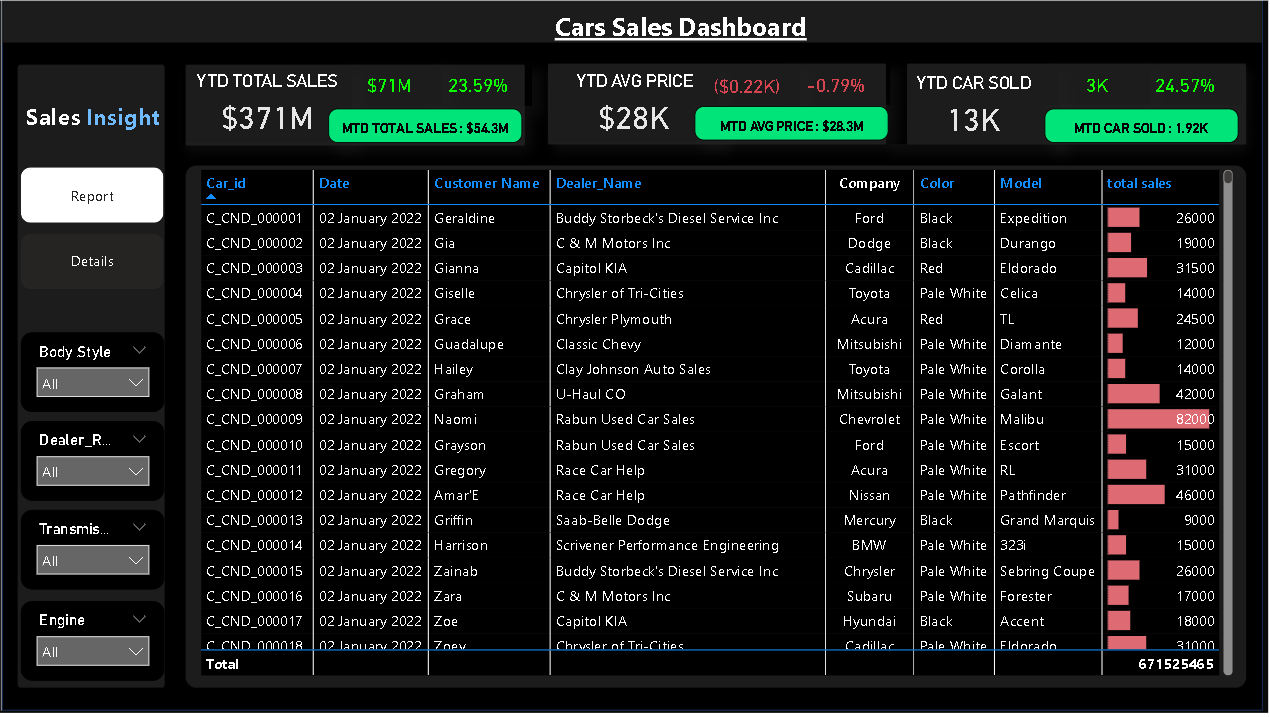

The dashboard page shown, as its layout file describes it:
{"tool":"powerbi","page":{"name":"Details","canvas":[1280,720],"ordinal":1},"visuals":[{"type":"card","title":"YTD TOTAL SALES","fields":{"Values":["car_data.YTD TOTAL SALES"]},"box":[209.5,84.5,161.9,69],"z":0},{"type":"card","title":"SALES  DIFFRENCE","fields":{"Values":["car_data.Sales Diffrence"]},"box":[357.1,81,101.2,38.1],"z":1000},{"type":"card","title":"SALES  DIFFRENCE","fields":{"Values":["car_data.YOY SALES GROWTH"]},"box":[440.5,81,102.4,38.1],"z":2000},{"type":"card","title":"YTD TOTAL SALES","fields":{"Values":["car_data.MTD KPI"]},"box":[348.2,121.3,184.9,32.4],"z":3000},{"type":"card","title":"YTD AVG PRICE","fields":{"Values":["car_data.YTD AVG PRICE"]},"box":[559.5,84.5,161.9,69],"z":4000},{"type":"card","title":"SALES  DIFFRENCE","fields":{"Values":["car_data.AVG PRICE DIFF"]},"box":[697.6,81.7,100.9,37.2],"z":5000},{"type":"card","title":"SALES  DIFFRENCE","fields":{"Values":["car_data.YOY AVG PRICE GROWTH"]},"box":[780.5,80.5,102.1,37.2],"z":6000},{"type":"card","title":"YTD TOTAL SALES","fields":{"Values":["car_data.MTD AVG KPI"]},"box":[697.6,118.9,184.9,32.4],"z":7000},{"type":"card","title":"YTD CAR SOLD","fields":{"Values":["car_data.YTD CAR SOLD"]},"box":[882.6,86.5,162.1,68.4],"z":8000},{"type":"card","title":"SALES  DIFFRENCE","fields":{"Values":["car_data.Cars Sold Diff"]},"box":[1031.4,80.5,100.9,37.2],"z":9000},{"type":"card","title":"SALES  DIFFRENCE","fields":{"Values":["car_data.YOY CARS SOLD GROWTH"]},"box":[1114.3,80.5,102.1,37.2],"z":10000},{"type":"card","title":"YTD TOTAL SALES","fields":{"Values":["car_data.kpi car sold Growth"]},"box":[1031.4,121.3,184.9,32.4],"z":11000},{"type":"textbox","box":[559.5,21.4,271.4,65.5],"z":12000},{"type":"slicer","fields":{"Values":["car_data.Body Style"]},"box":[56,334.5,136.9,76.2],"z":13000},{"type":"slicer","fields":{"Values":["car_data.Dealer_Region"]},"box":[56,419,136.9,76.2],"z":14000},{"type":"slicer","fields":{"Values":["car_data.Transmission"]},"box":[56,503.6,136.9,76.2],"z":15000},{"type":"slicer","fields":{"Values":["car_data.Engine"]},"box":[56,590.5,136.9,76.2],"z":16000},{"type":"tableEx","fields":{"Values":["car_data.Car_id","car_data.Date","car_data.Customer Name","car_data.Dealer_Name","car_data.Company","car_data.Color","car_data.Model","car_data.total sales"]},"box":[221.4,175,994.1,491.7],"z":17000},{"type":"textbox","box":[56,108.3,166.7,57.1],"z":18000},{"type":"pageNavigator","box":[56,177.4,136.9,116.7],"z":18001}]}

Visuals, with their boxes in screenshot pixels (x1, y1, x2, y2), scaled from the page's 1280x720 canvas onto the 1270x717 screenshot:
"YTD TOTAL SALES" card: bbox=(208, 84, 368, 153)
"SALES  DIFFRENCE" card: bbox=(354, 81, 455, 119)
"SALES  DIFFRENCE" card: bbox=(437, 81, 539, 119)
"YTD TOTAL SALES" card: bbox=(345, 121, 529, 153)
"YTD AVG PRICE" card: bbox=(555, 84, 716, 153)
"SALES  DIFFRENCE" card: bbox=(692, 81, 792, 118)
"SALES  DIFFRENCE" card: bbox=(774, 80, 876, 117)
"YTD TOTAL SALES" card: bbox=(692, 118, 876, 151)
"YTD CAR SOLD" card: bbox=(876, 86, 1037, 154)
"SALES  DIFFRENCE" card: bbox=(1023, 80, 1123, 117)
"SALES  DIFFRENCE" card: bbox=(1106, 80, 1207, 117)
"YTD TOTAL SALES" card: bbox=(1023, 121, 1207, 153)
textbox: bbox=(555, 21, 824, 87)
slicer - car_data.Body Style: bbox=(56, 333, 191, 409)
slicer - car_data.Dealer_Region: bbox=(56, 417, 191, 493)
slicer - car_data.Transmission: bbox=(56, 502, 191, 577)
slicer - car_data.Engine: bbox=(56, 588, 191, 664)
tableEx - car_data.Car_id x car_data.Date: bbox=(220, 174, 1206, 664)
textbox: bbox=(56, 108, 221, 165)
pageNavigator: bbox=(56, 177, 191, 293)
